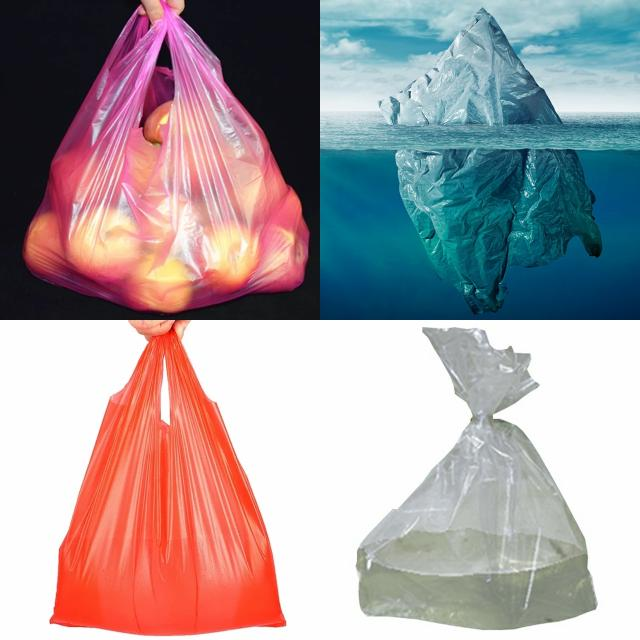Single-layer Plastic: (24, 5, 309, 313), (358, 328, 595, 629), (51, 331, 285, 635)
